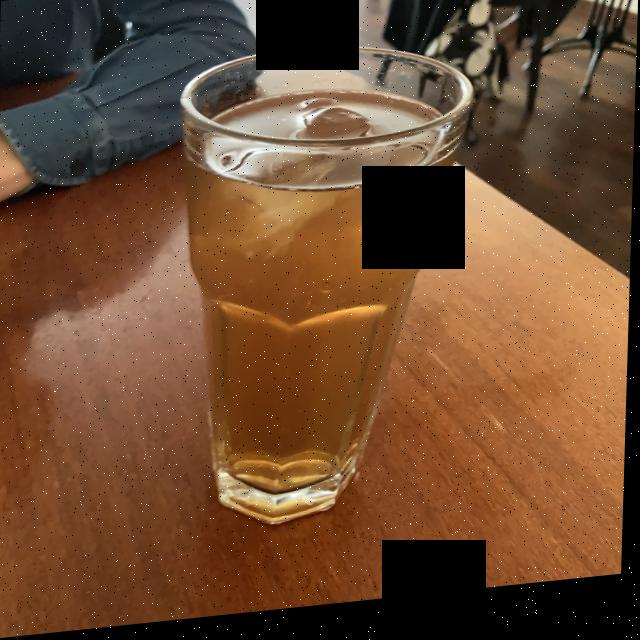tea: (188, 94, 451, 491)
